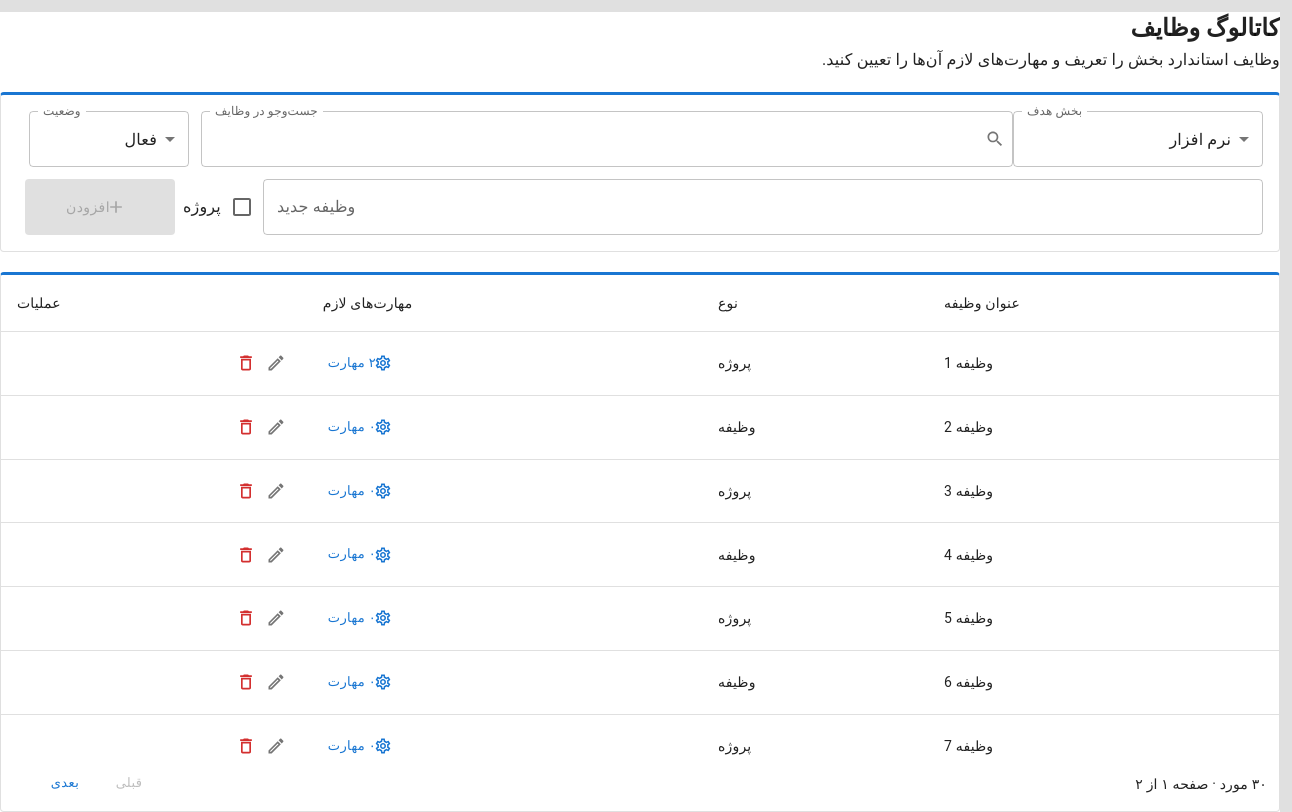
Scenario: DepartmentCatalogPage › uses a separate task catalog surface and does not annotate department options
The width and height of the screenshot is (1292, 812).
Expected: the heading "کاتالوگ وظایف" is shown, [1131,14,1280,42]
Click the dropdown named "بخش هدف" at (1200, 139), box [1169,130,1231,148]
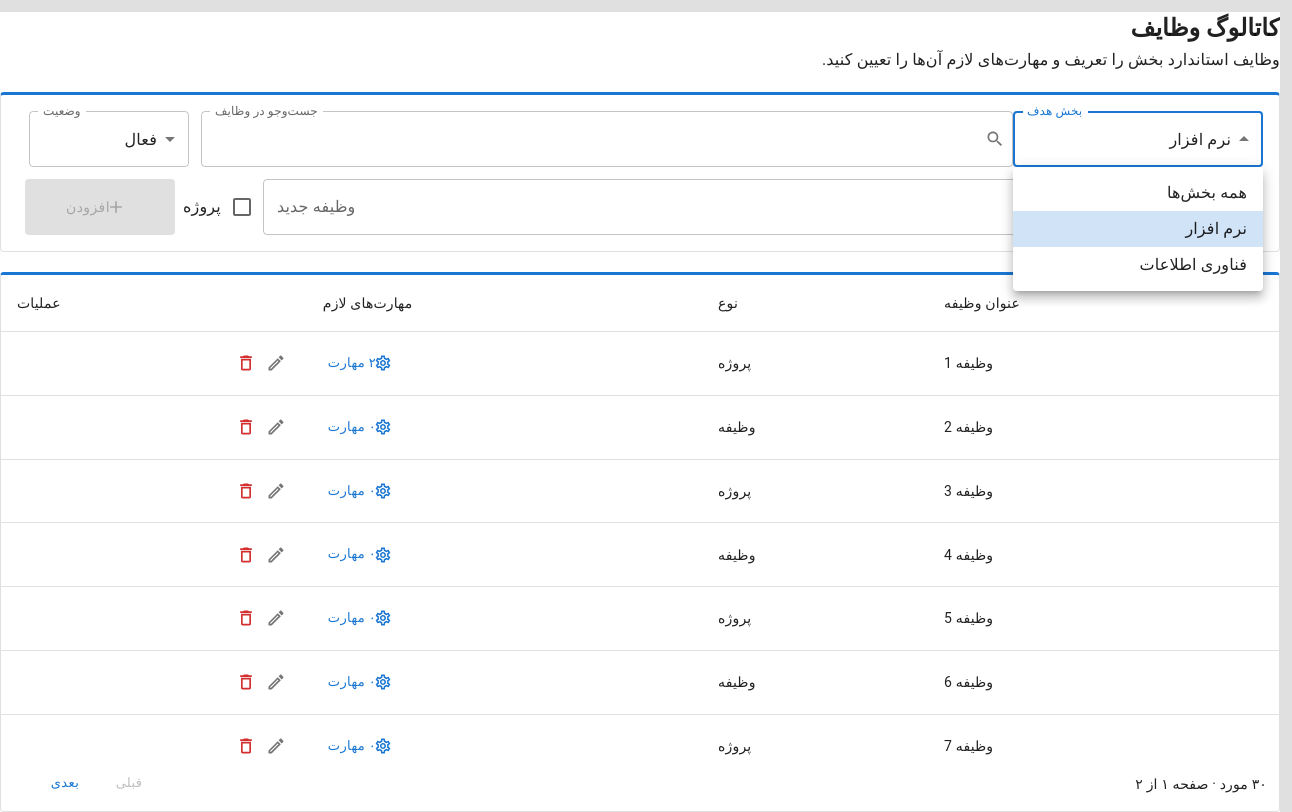
Now the option "نرم افزار" is shown, box [1013,211,1263,247]
Now the option "فناوری اطلاعات" is shown, box [1140,255,1247,274]
